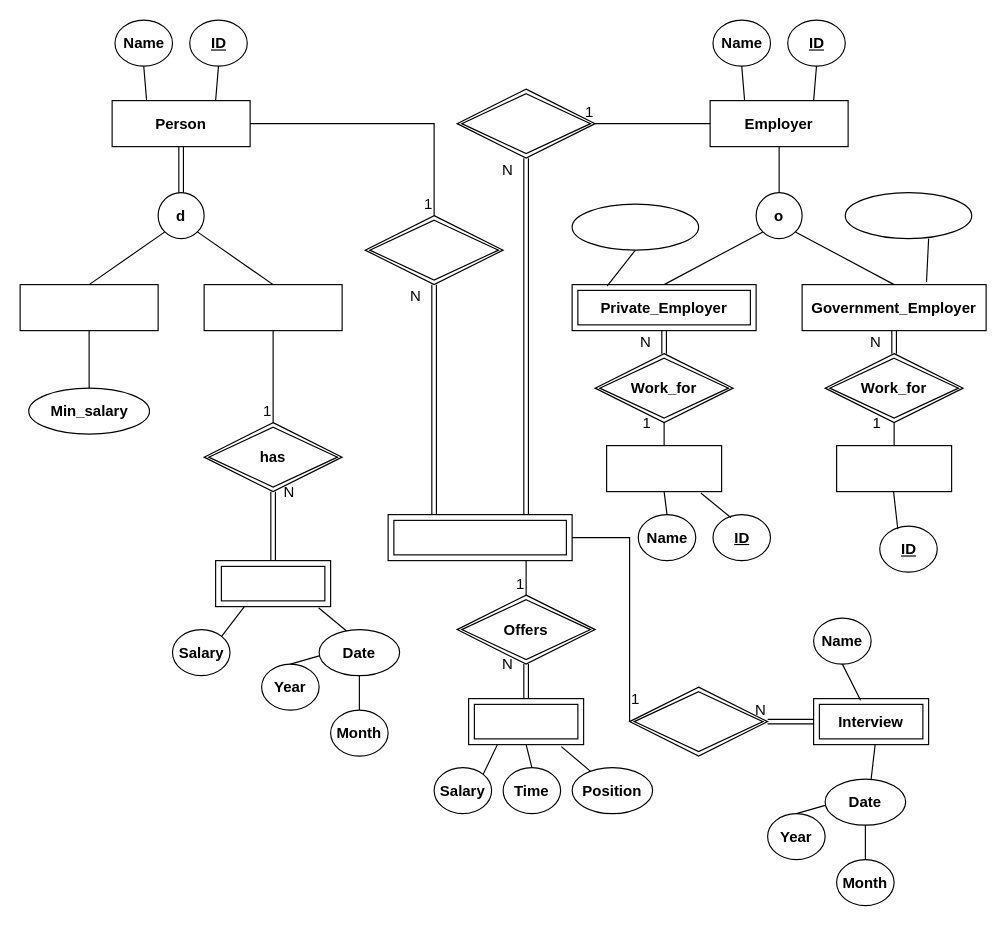
The diagram is 1006 pixels wide and 926 high, and some of its shapes have lost their labels. Here are the shapes that lost their labels. From the top down, the box of each, then its label:
(456, 88, 595, 158): Conducts
(571, 203, 699, 250): Hourly_salary
(844, 191, 972, 239): Yearly_salary
(364, 214, 503, 285): Participates
(19, 283, 158, 331): Inexperienced
(203, 283, 342, 331): Experienced
(605, 444, 722, 492): Department
(835, 444, 952, 492): Ministry
(387, 513, 572, 561): Hiring_proccess
(214, 559, 331, 607): Experience
(467, 697, 584, 745): JobOffer
(628, 686, 768, 756): Holding
